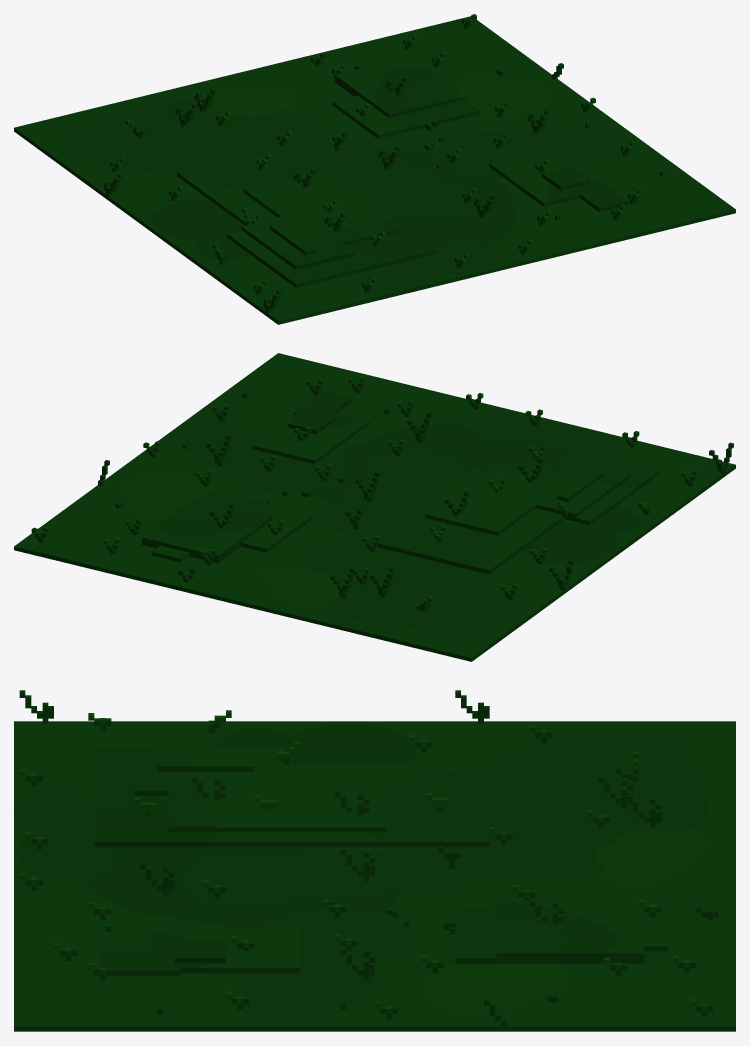
The model's file is Boden.obj.
3 views of the same model, one above another, from view 1: azimuth 30°, elevation 25°; view 2: azimuth 150°, elevation 25°; view 3: azimuth 270°, elevation 25° (orthographic). The views are drawn at different scales.
Bounding box in the file's own units: 12.6 × 0.7 × 12.6.
Materials: 1 (1 with a texture image).
